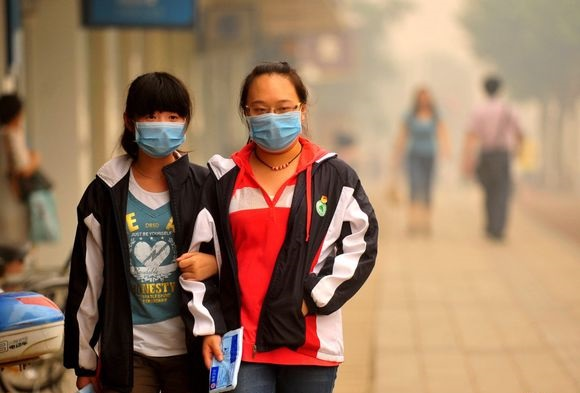face_mask: (249, 78, 298, 149), (136, 103, 184, 155)
